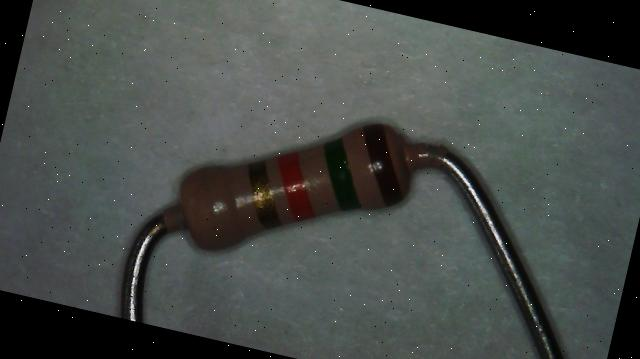brown: (344, 123, 418, 211)
gold: (234, 156, 293, 231)
green: (312, 134, 376, 215)
orange: (264, 147, 328, 227)
resistor: (144, 88, 449, 279)
